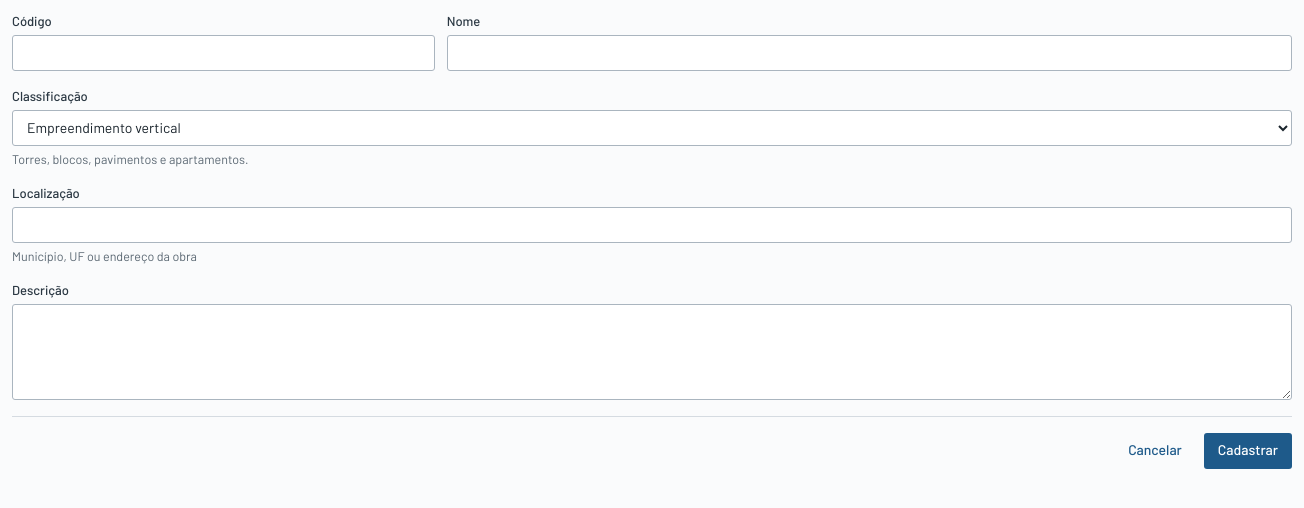
Test: ProjectForm › valida no cliente e não envia formulário inválido
The width and height of the screenshot is (1304, 508).
Type "a b" into the field labelled "Código".
click(223, 53); type("a b")  # box [12, 35, 435, 71]
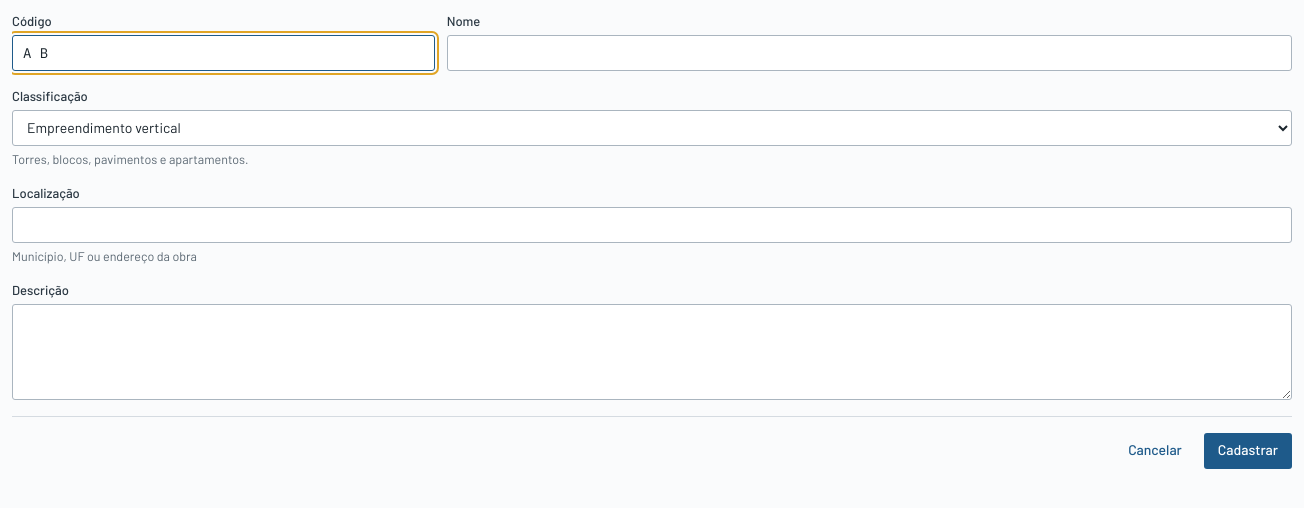
Click the button "Cadastrar".
click(1248, 451)  # box [1204, 433, 1292, 469]
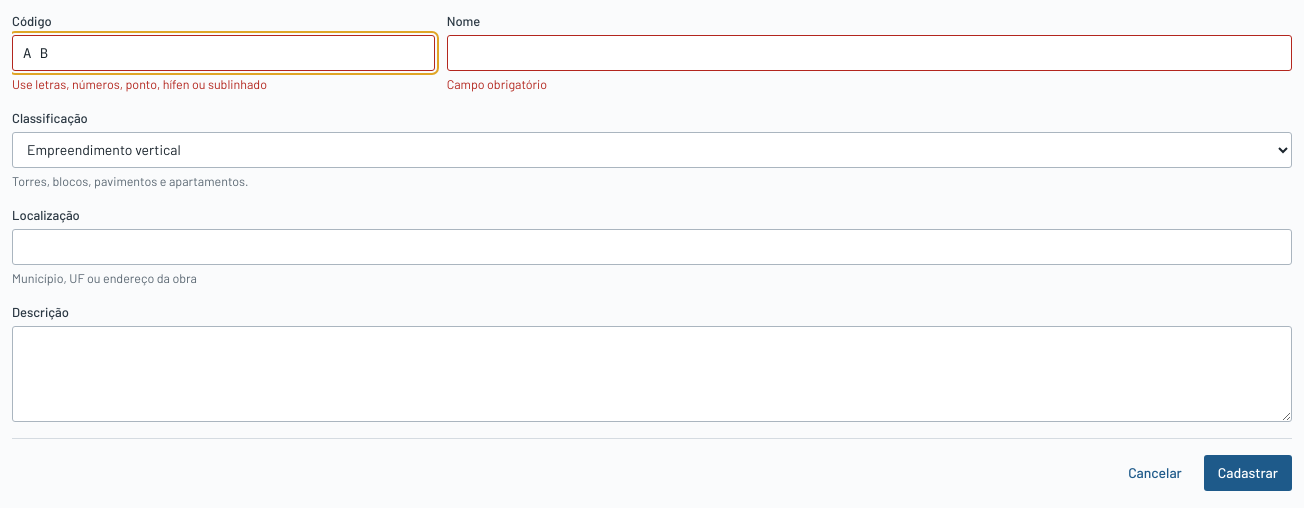
Result: the text "Use letras, números, ponto, hífen ou sublinhado" is shown at [12, 76, 267, 92]
Result: the text "Campo obrigatório" is shown at [447, 76, 547, 92]
